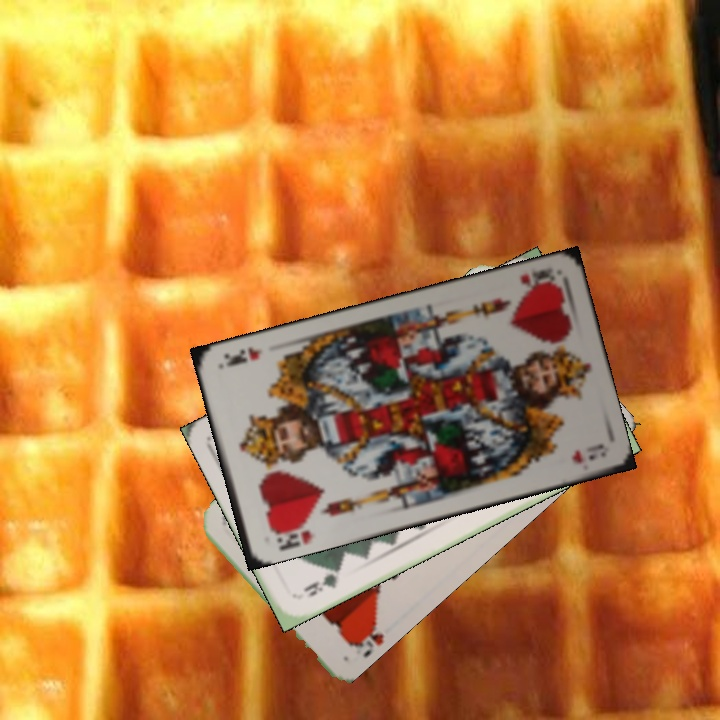G9: (298, 564, 344, 600)
HK: (267, 518, 316, 553), (516, 263, 559, 296)
HO: (344, 614, 387, 659)
